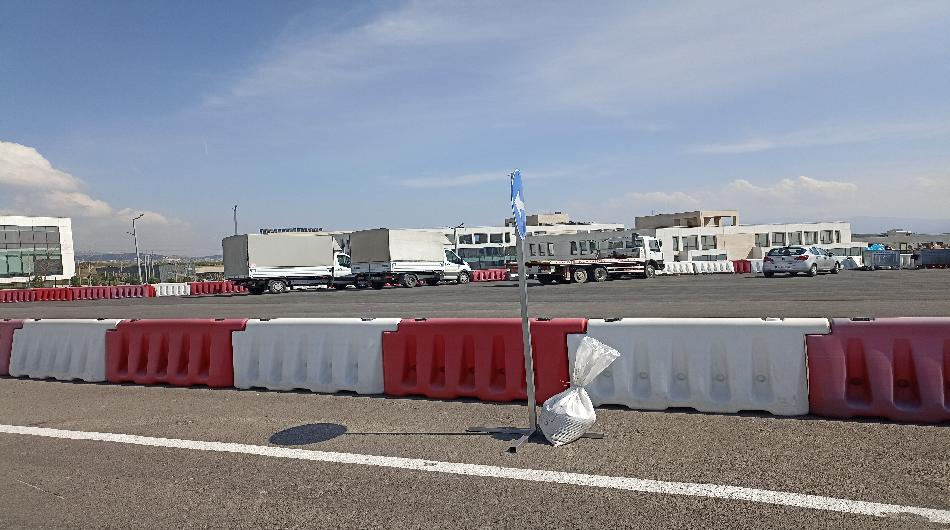sola_mecburi_1: (506, 171, 533, 240)
